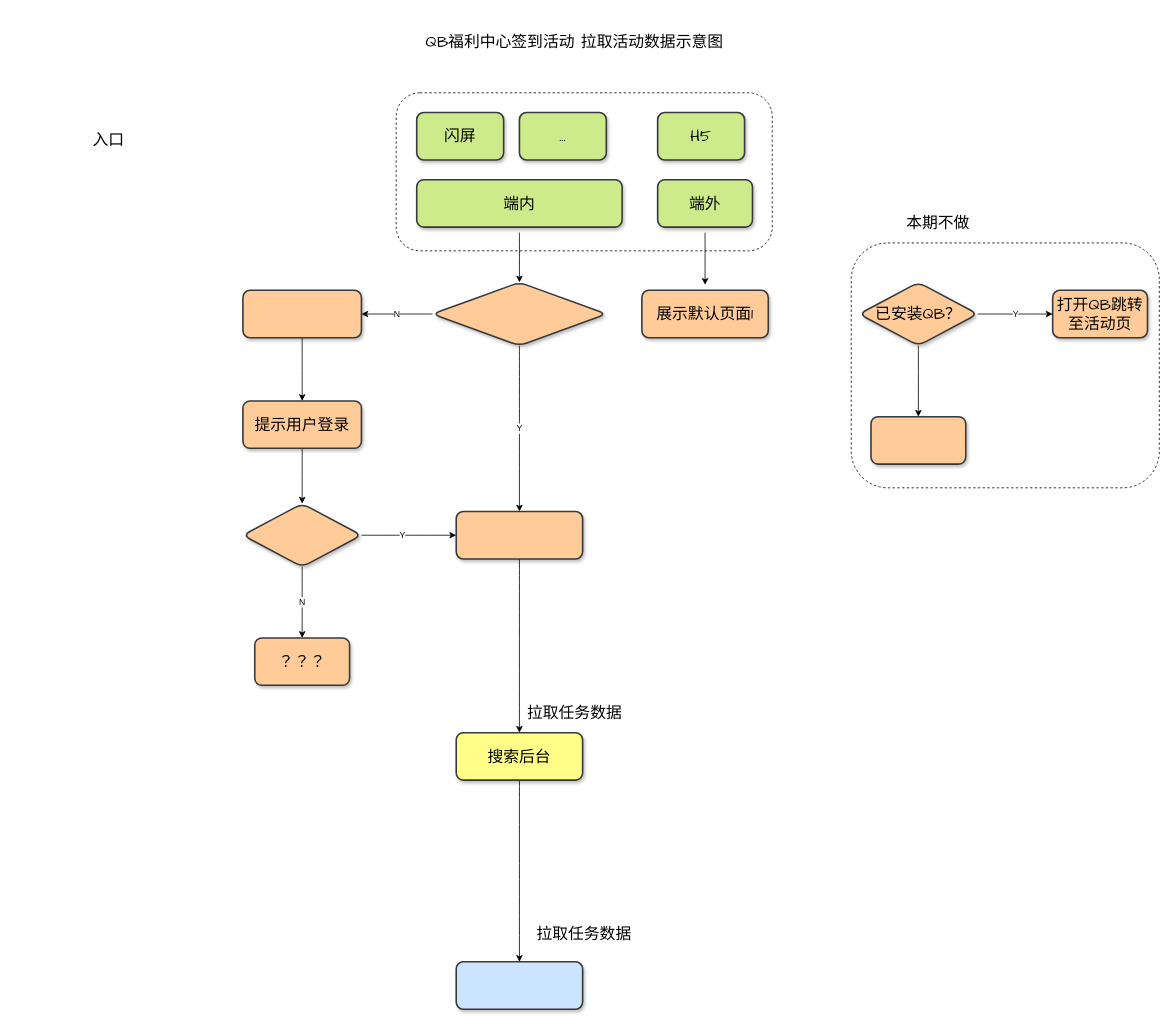
This 1173x1029 diagram has some shape labels left out. Each missing label, with the centre of its shape:
"展示用户活动页面数据" belongs at [520,536].
"展示默认页面2" belongs at [303,315].
"已登录？" belongs at [519,315].
"提示下载" belongs at [919,441].
"登录成功？" belongs at [303,536].
"福利中心后台" belongs at [520,986].
